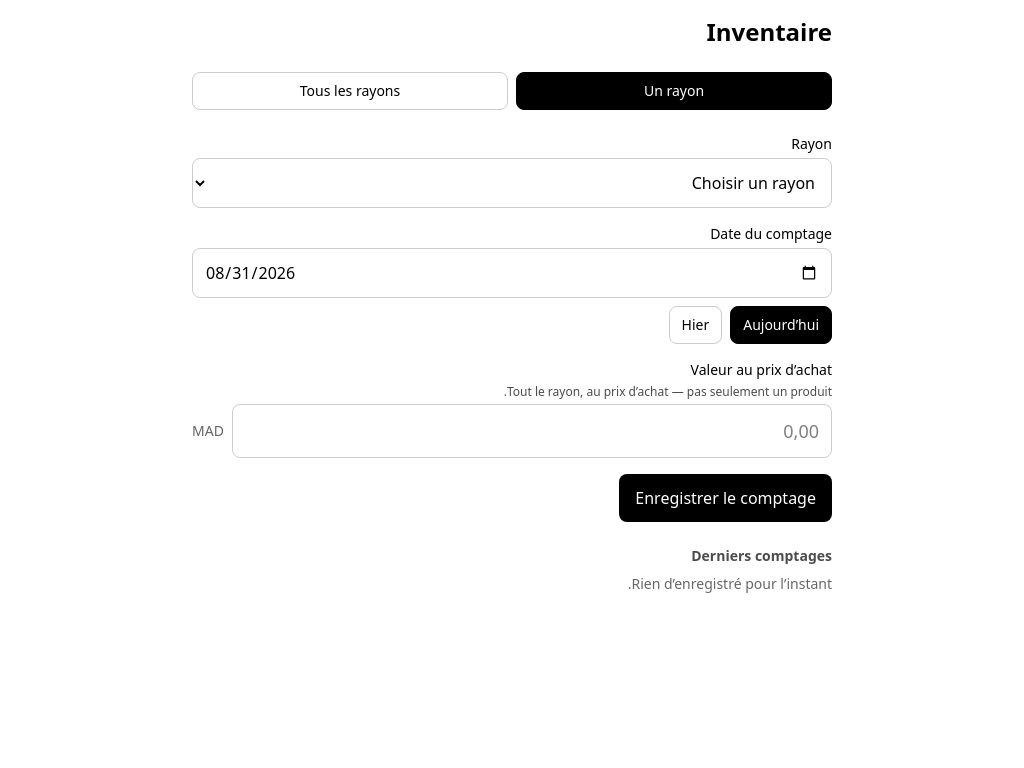
Test case: single count › offers the loss prompt after saving, and skipping is one tap
Select "Produits laitiers" in the dropdown labelled "Rayon" at (512, 183), box [192,158,832,208]
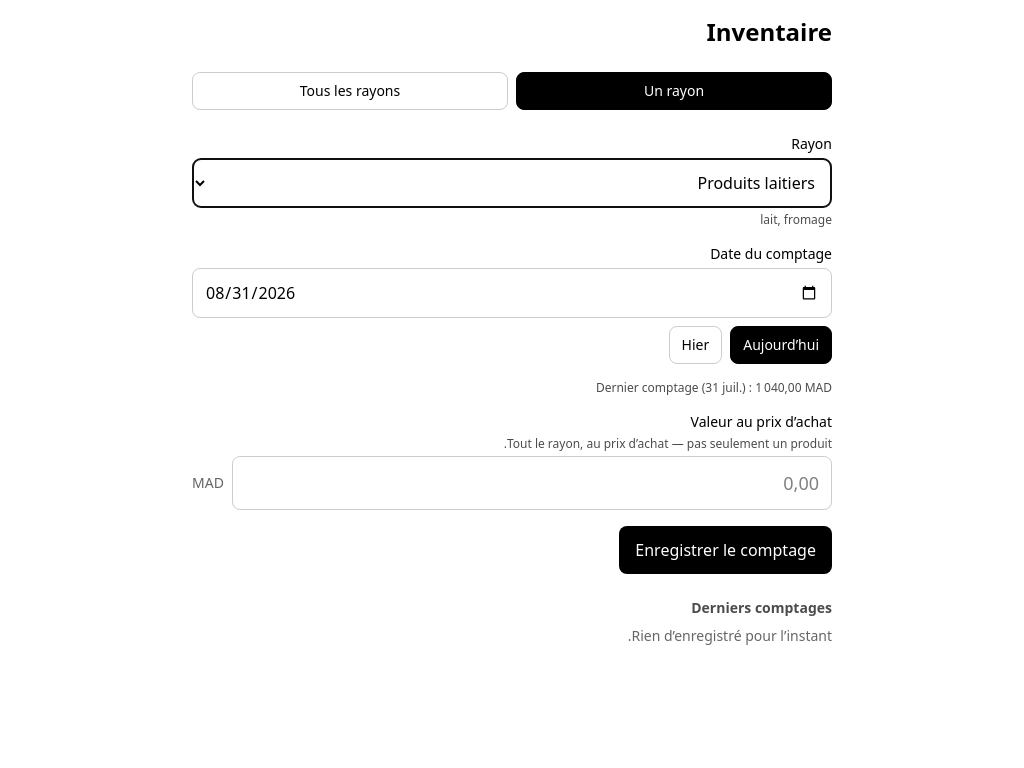
Type "900" into the field labelled "Valeur au prix d’achat" at (532, 483), box [232,456,832,510]
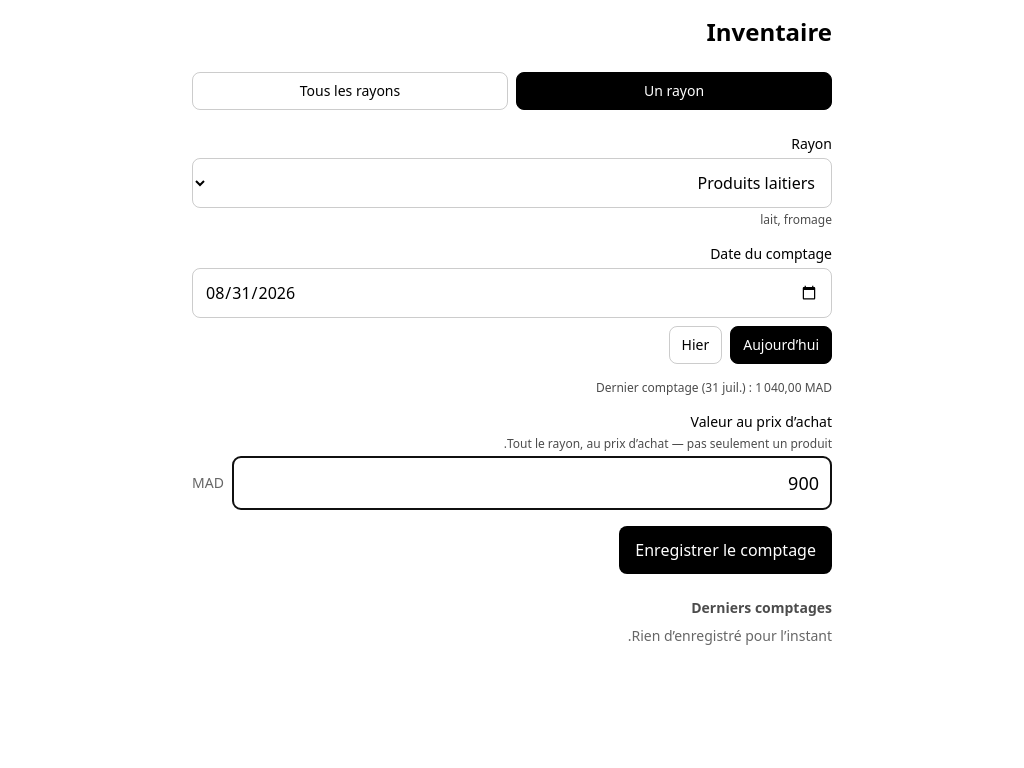
Click the button "Enregistrer le comptage" at (726, 550), box [619,526,832,574]
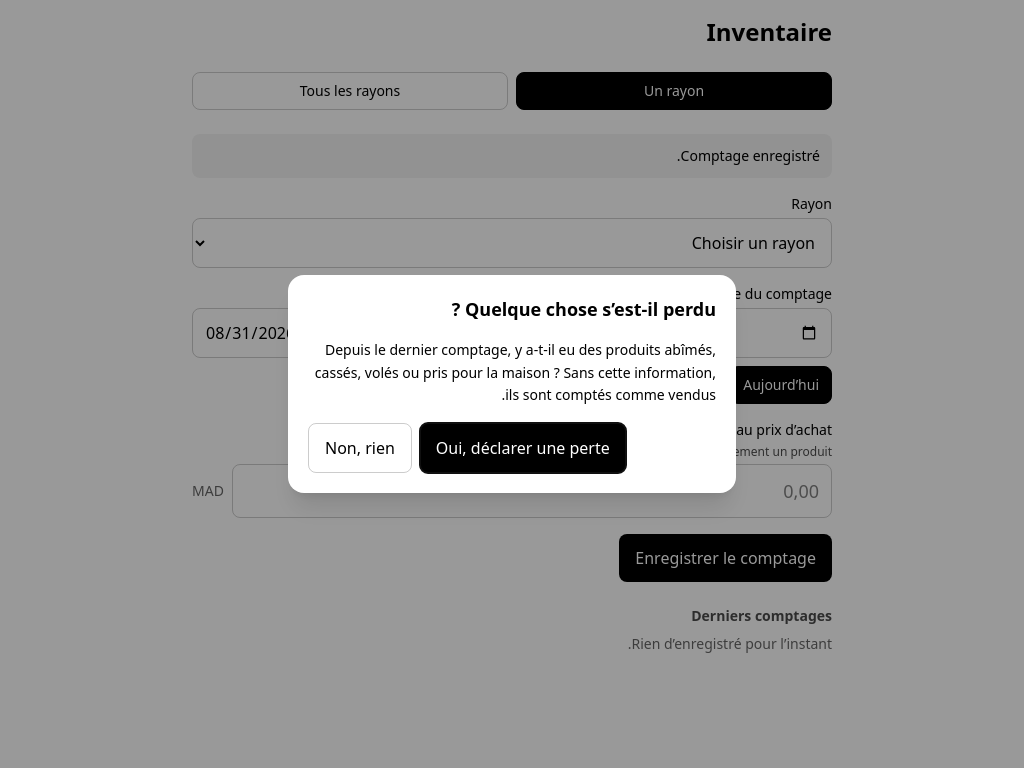
Result: the dialog shows "comptés comme vendus" at [315,340,716,404]
Click the button "Non, rien" at (360, 448), box [308,423,412,473]
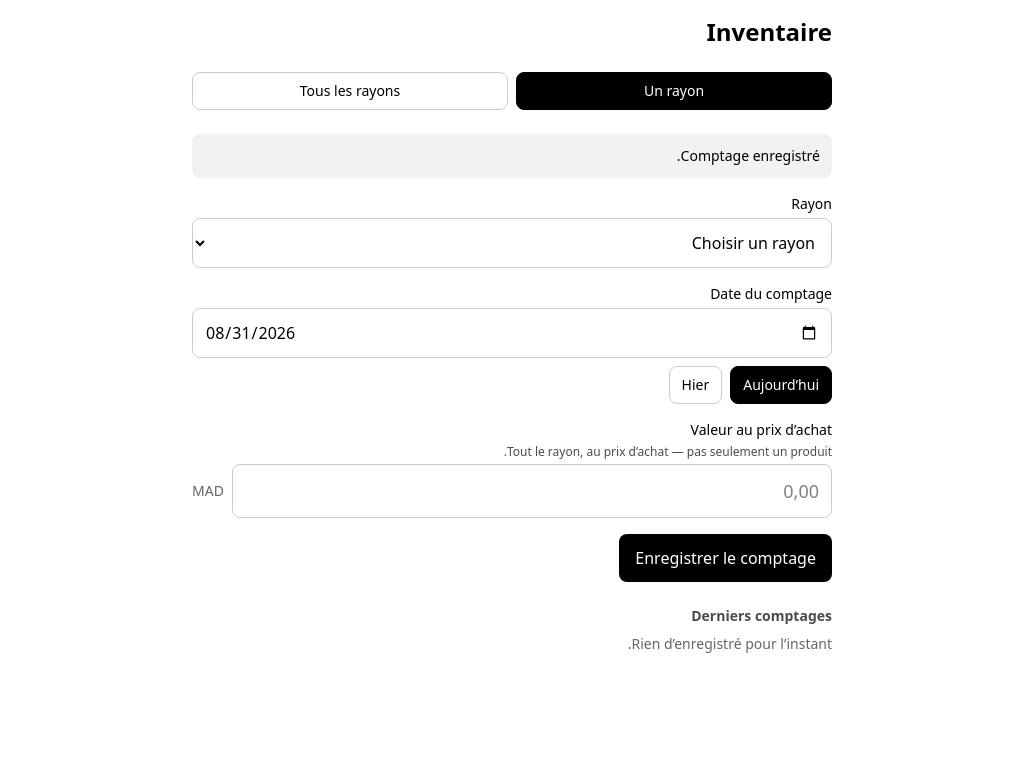
Result: the dialog is gone
